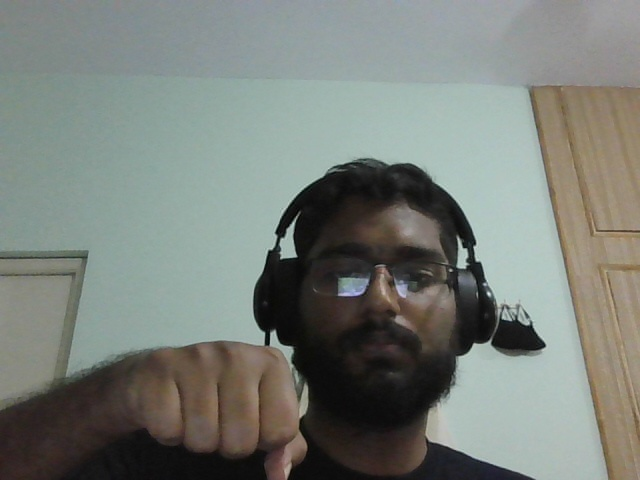Yes: (94, 305, 333, 480)
